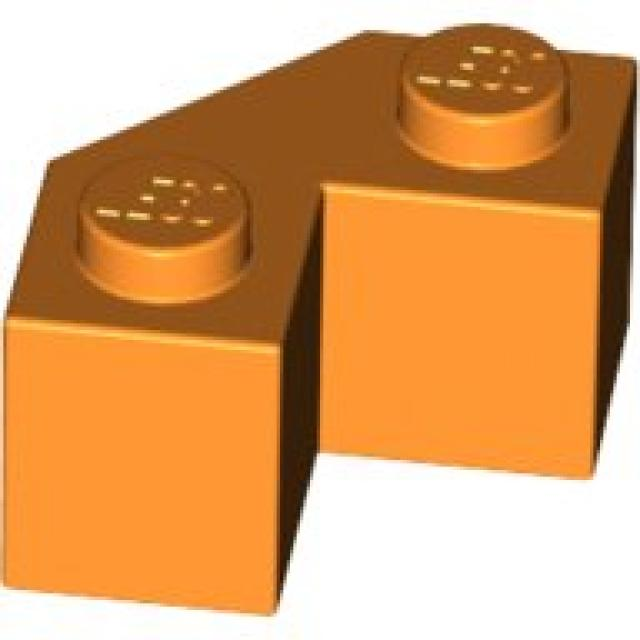Orange_Small: (3, 23, 640, 623)
